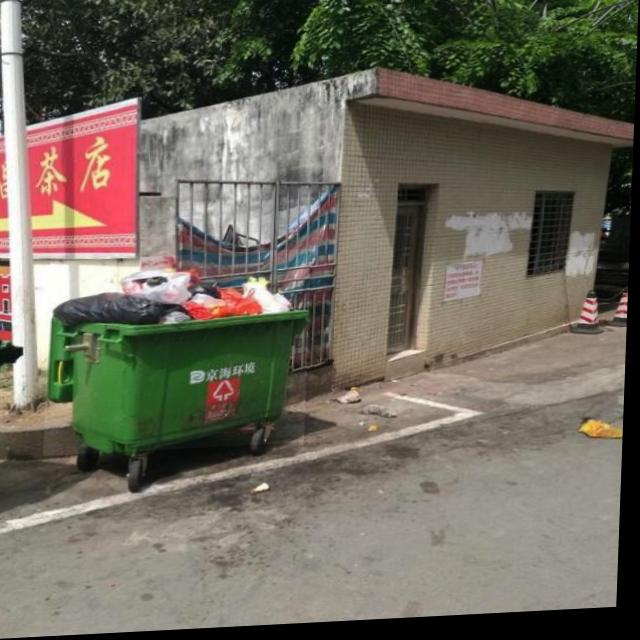overflow: (47, 252, 313, 457)
